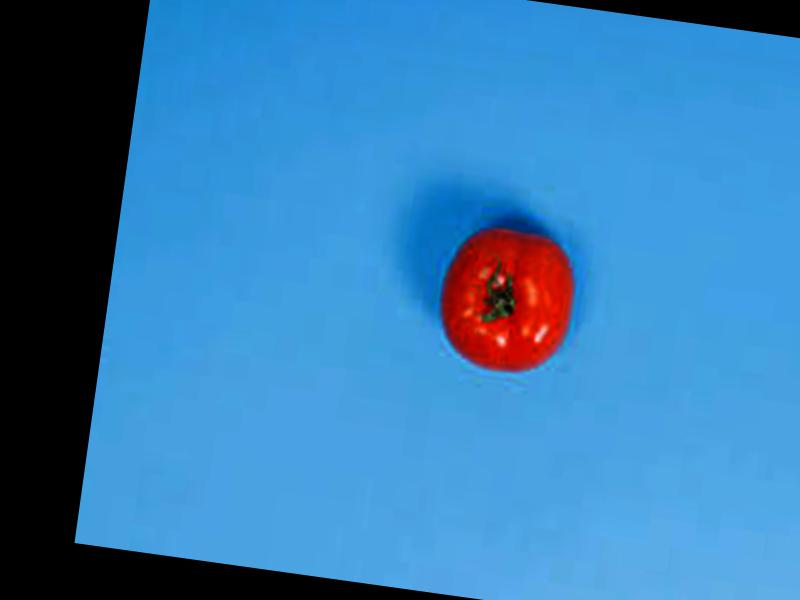Tomato: (427, 220, 580, 381)
